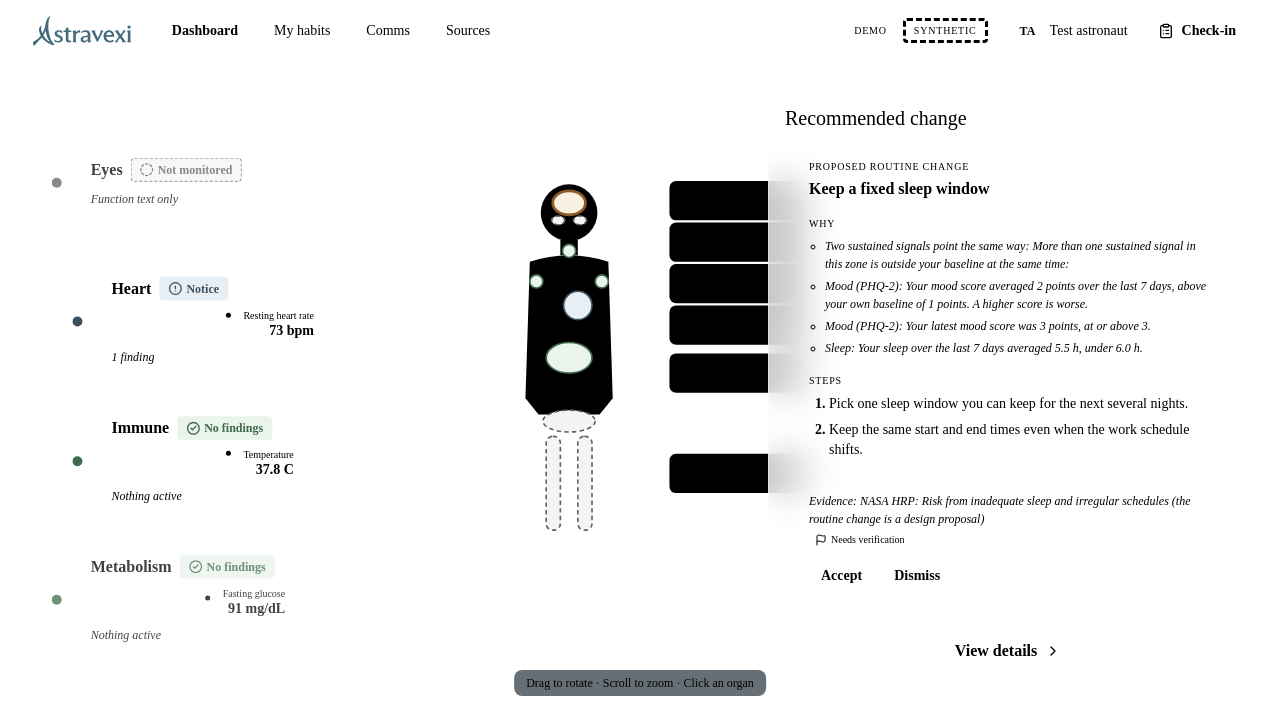
Scenario: select and save AI habits › saves the ticked blocks with provenance, toasts, and marks them saved (idempotent)
The width and height of the screenshot is (1280, 720).
(page scrolled)
Step 1. Click the button "Accept" → (842, 576), box [809, 560, 874, 592]
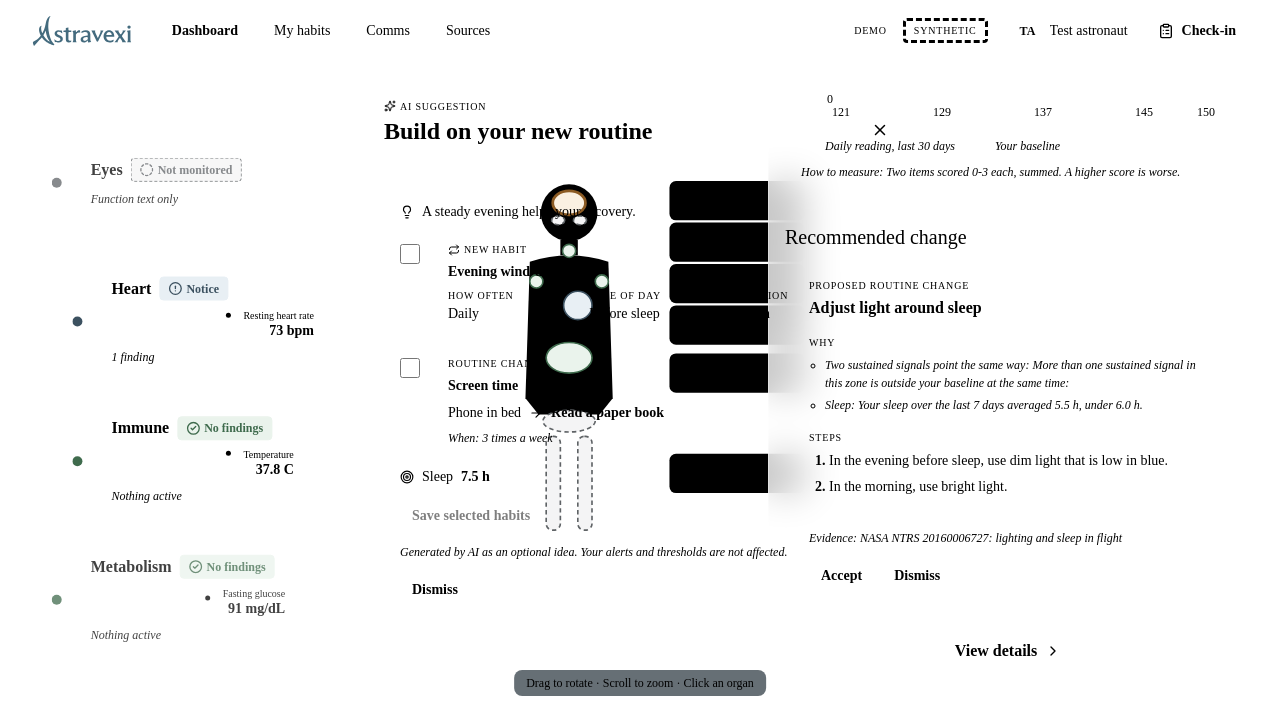
Step 2. Click the checkbox named "Select habit: Evening wind-down" → (410, 254), box [400, 244, 420, 264]
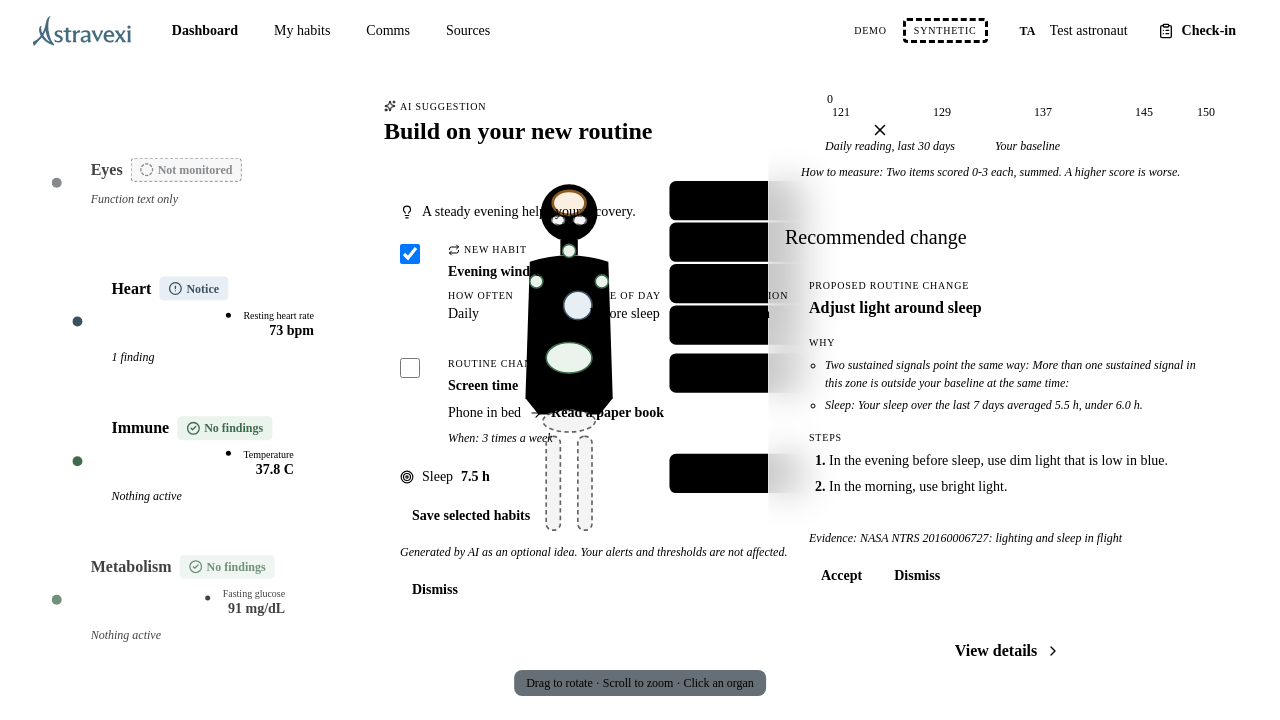
Step 3. Click the checkbox named "Select routine change: Read a paper book" → (410, 368), box [400, 358, 420, 378]
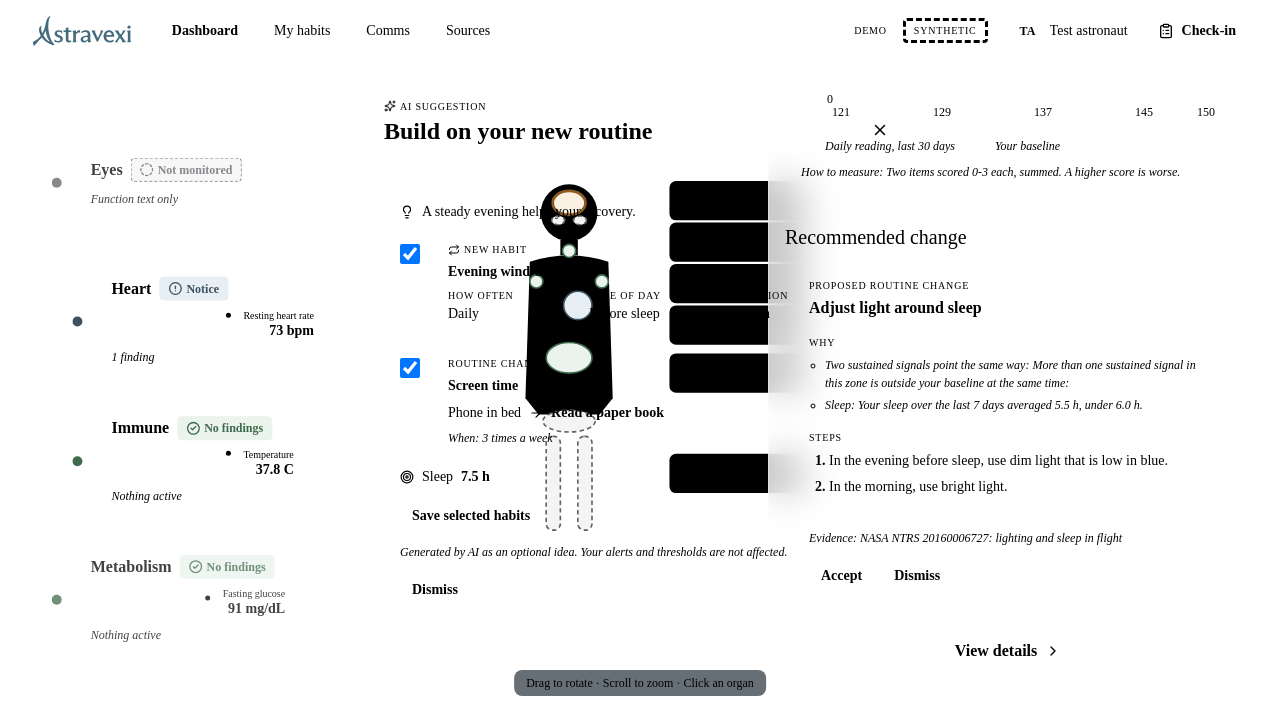
Step 4. Click the button "Save selected habits" → (471, 515), box [400, 499, 542, 531]
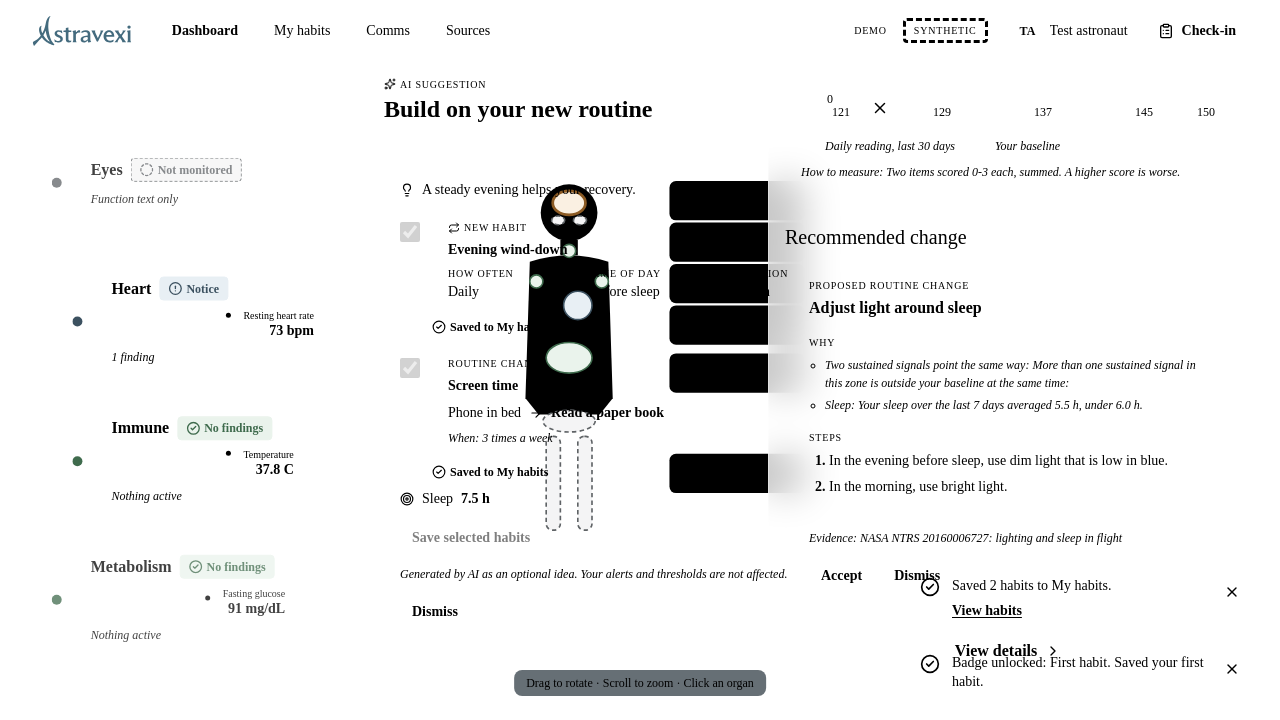
Result: the text "Saved 2 habits to My habits." is shown at [952, 576, 1111, 596]
Result: the text "Saved to My habits" is shown 2 times at [432, 320, 548, 334]; [432, 465, 548, 479]
Result: the checkbox named "Select habit: Evening wind-down" is disabled at [400, 222, 420, 242]
